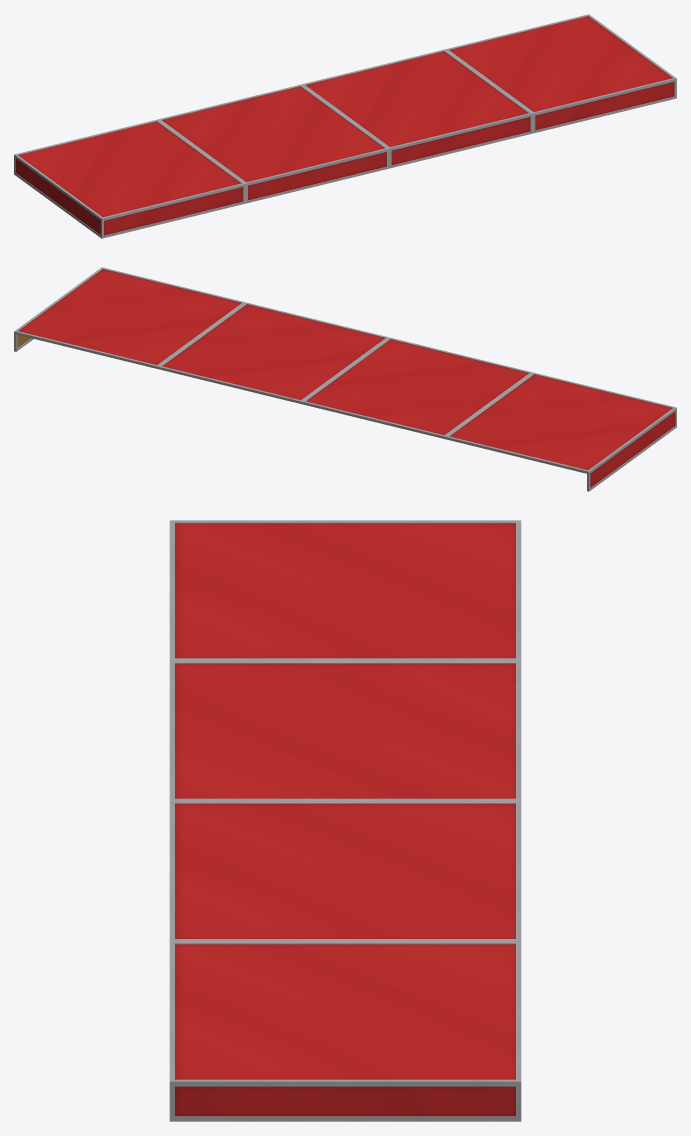
File: jsf_2P_s04_c06_t01_DX.fbx
3 renders of one model, top to bottom at view 1: azimuth 30°, elevation 25°; view 2: azimuth 150°, elevation 25°; view 3: azimuth 270°, elevation 25°, orthographic. The views are drawn at different scales.
Parts seen in each view (by area): view 1: jsf_2P_s04_c06_t01_DX; view 2: jsf_2P_s04_c06_t01_DX; view 3: jsf_2P_s04_c06_t01_DX.
Boxes of the visible parts, box(x1,y1,x2,y2) form: jsf_2P_s04_c06_t01_DX: box(14, 14, 676, 238); jsf_2P_s04_c06_t01_DX: box(14, 267, 676, 491); jsf_2P_s04_c06_t01_DX: box(169, 520, 521, 1121).
Bounding box in the file's own units: 378 × 12.51 × 100.
